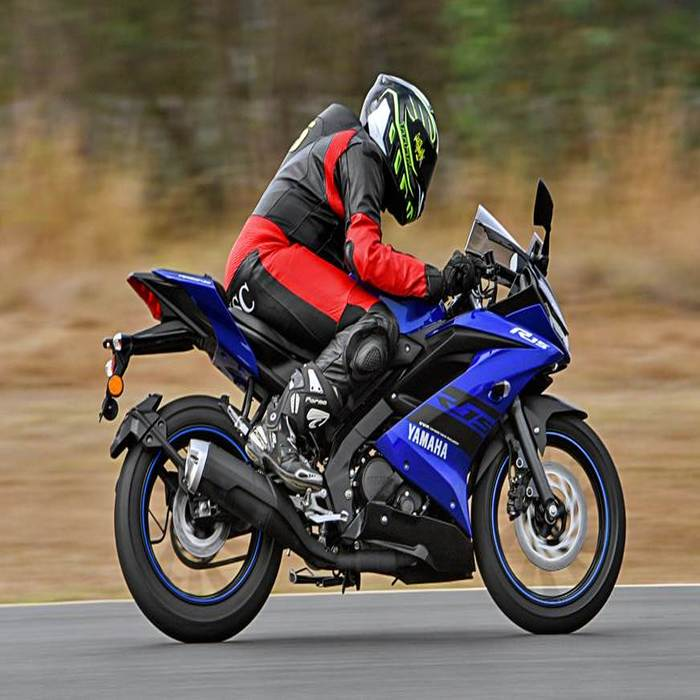h: (354, 70, 445, 228)
